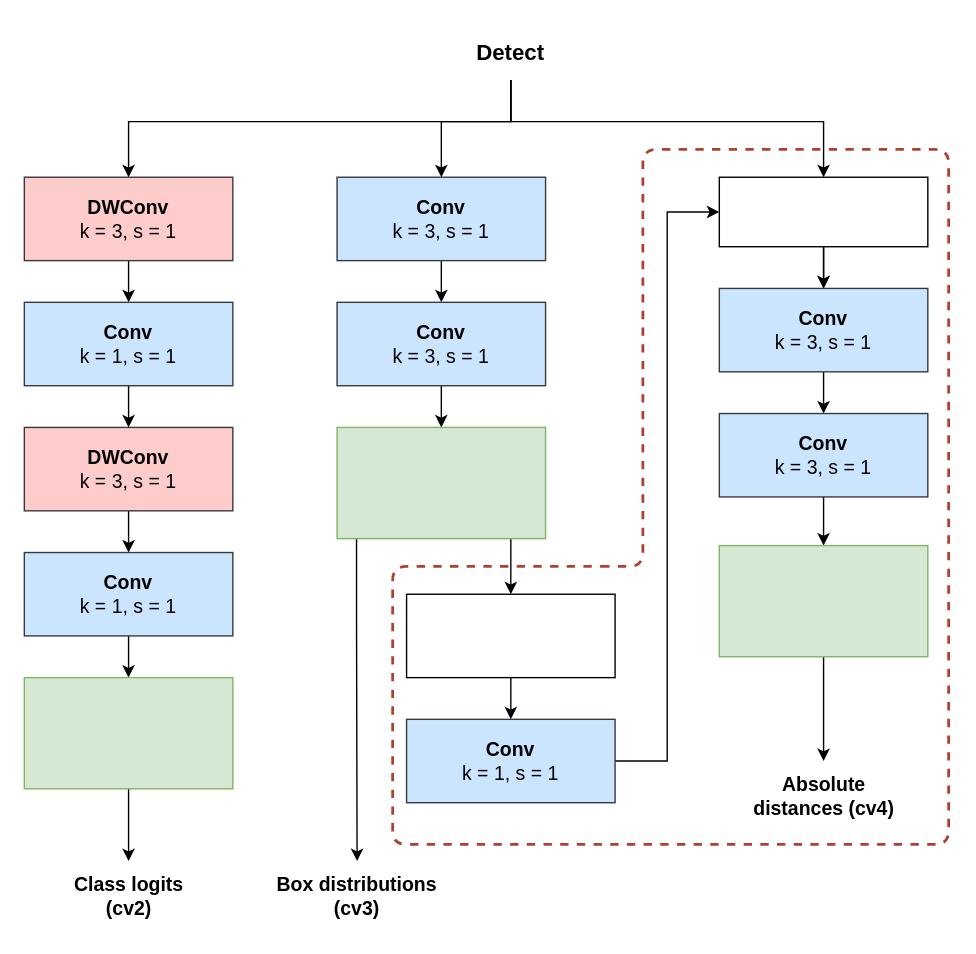
Some shapes in this 976 by 954 pixel diagram are drawn without their labels. Each missing label, with the centre of its shape:
"Concat" goes at point (823, 211).
"Conv2d k = 1, s = 1, p = 0 c = 1" goes at point (823, 600).
"Conv2d k = 1, s = 1, p = 0 c = 4 x reg_max" goes at point (441, 482).
"Conv2d k = 1, s = 1, p = 0 c = nc" goes at point (128, 732).
"Extract bh, bd" goes at point (510, 635).
